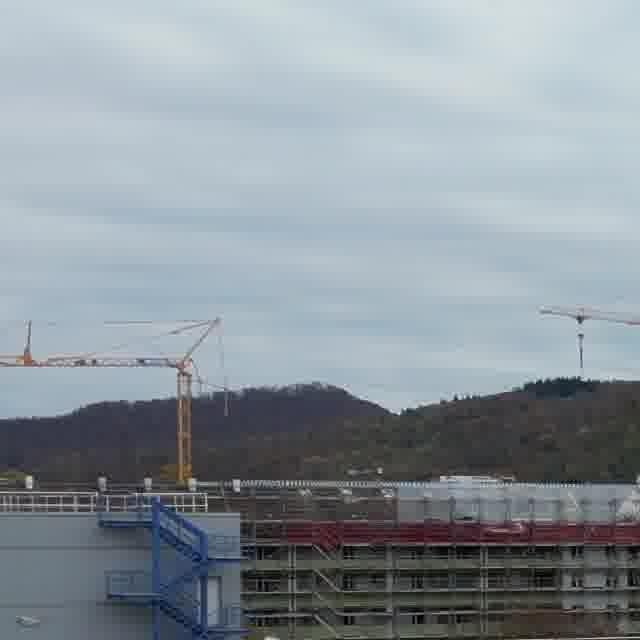Drohne: (16, 616, 39, 626)
